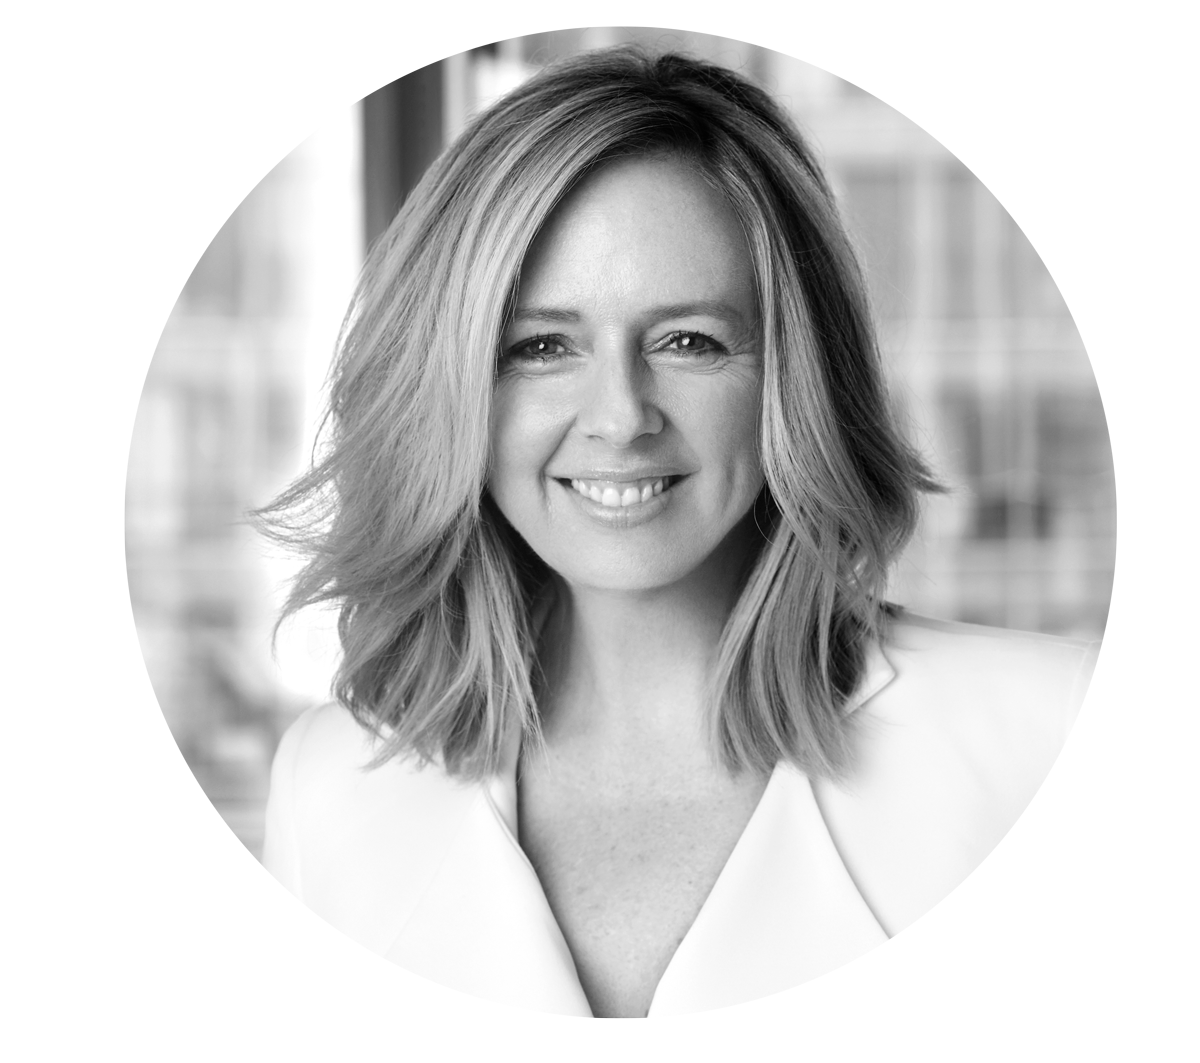Without Helmet: (414, 74, 828, 769)
